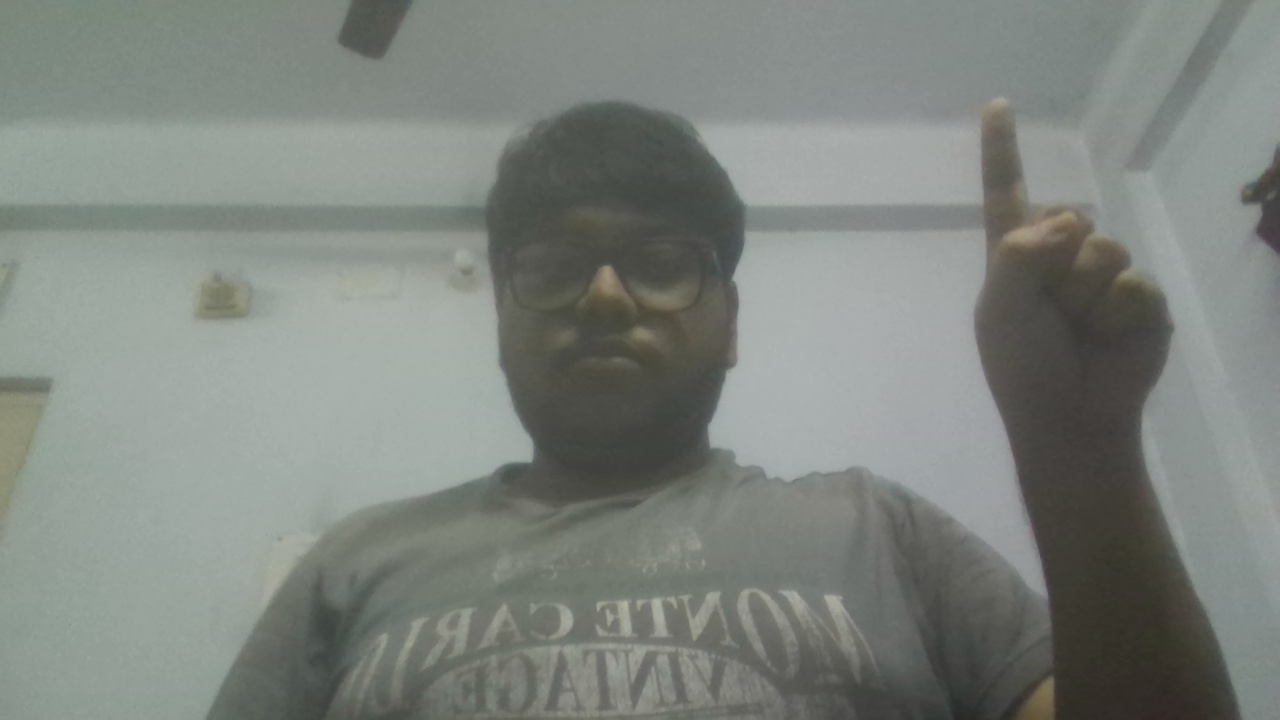Gesture1: (955, 86, 1189, 455)
